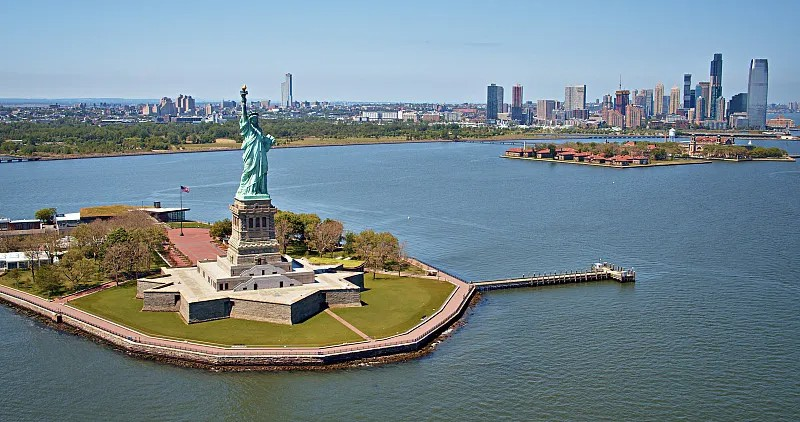SL: (227, 84, 281, 264)
